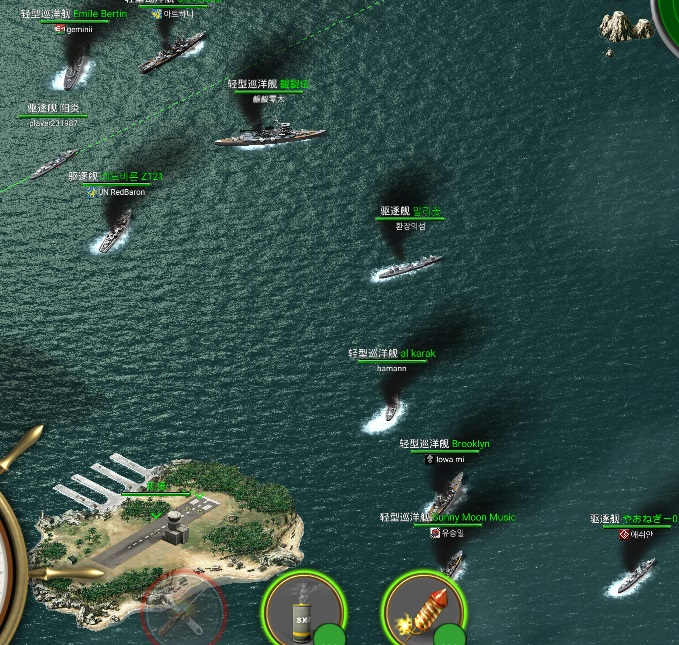ship: (139, 28, 208, 79), (213, 124, 328, 151), (374, 249, 446, 284), (422, 469, 466, 526), (612, 553, 658, 600), (96, 206, 137, 253), (28, 145, 77, 182), (60, 44, 94, 94), (382, 375, 403, 424)
